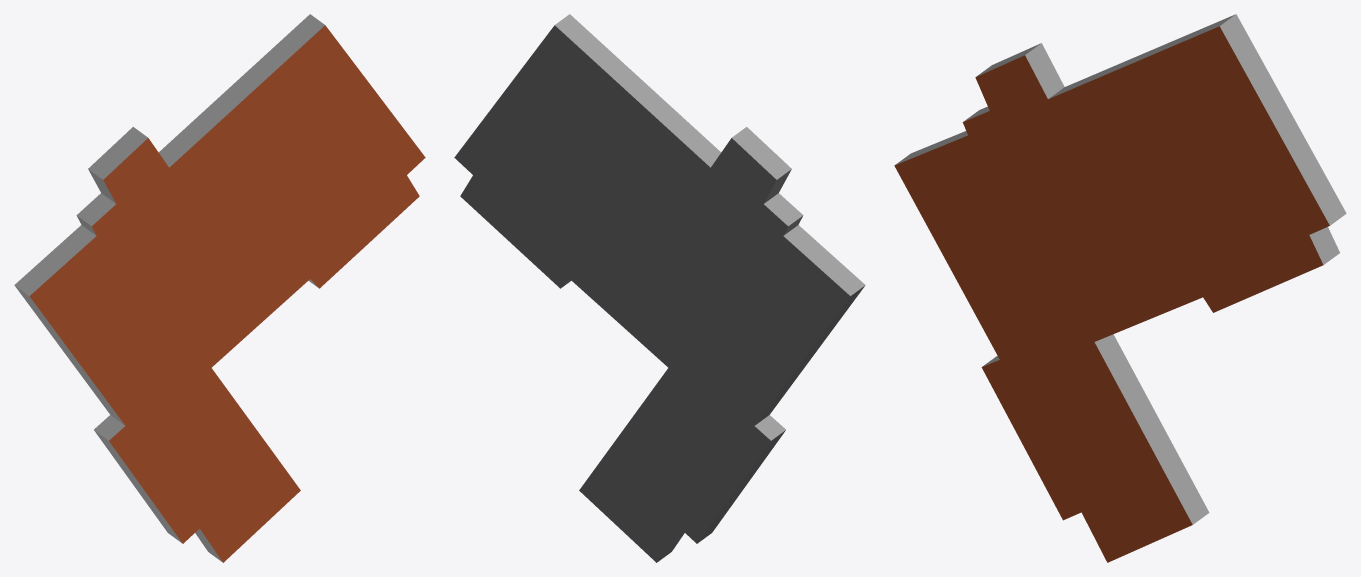
File: construction_0124_assumed_A_Grande_construcao_h6m.obj
3 renders of one model, left to right at view 1: azimuth 30°, elevation 25°; view 2: azimuth 150°, elevation 25°; view 3: azimuth 330°, elevation 25°, orthographic. The views are drawn at different scales.
Parts seen in each view (by area): view 1: construction_0124_assumed_A_Grande_construcao; view 2: construction_0124_assumed_A_Grande_construcao; view 3: construction_0124_assumed_A_Grande_construcao.
Part boxes in pixels (bbox=[...]): construction_0124_assumed_A_Grande_construcao: bbox=[14, 14, 425, 562]; construction_0124_assumed_A_Grande_construcao: bbox=[454, 14, 865, 562]; construction_0124_assumed_A_Grande_construcao: bbox=[894, 14, 1346, 562].
Size of the model in its own units: 90.34 by 112 by 6.
